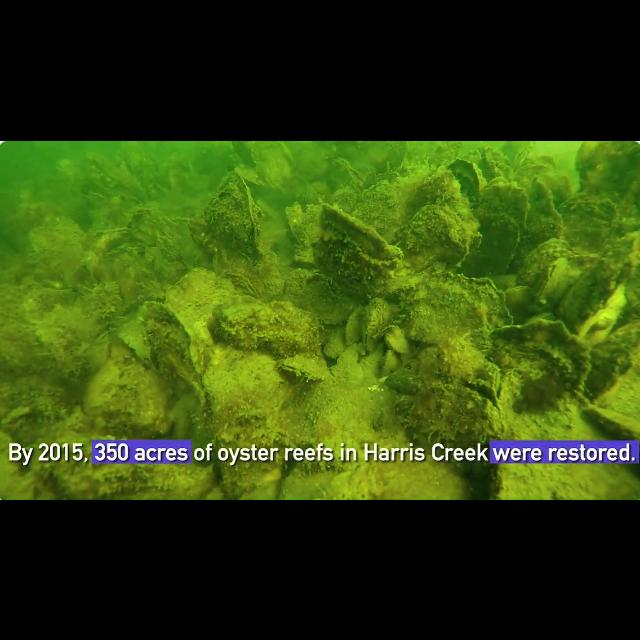Oyster-Closed: (39, 430, 217, 500), (404, 380, 506, 484), (393, 268, 513, 346), (484, 317, 594, 393), (136, 303, 204, 397), (390, 197, 474, 267), (201, 171, 261, 265), (210, 352, 286, 424), (164, 261, 234, 327), (209, 297, 279, 348), (574, 286, 630, 344), (77, 362, 129, 418), (28, 220, 88, 266), (105, 243, 158, 295), (388, 178, 469, 212), (483, 175, 531, 232), (514, 232, 572, 278), (598, 223, 640, 284), (576, 400, 640, 440), (480, 213, 518, 270), (129, 200, 173, 246), (497, 278, 541, 316), (448, 154, 486, 196), (152, 233, 188, 271), (86, 334, 114, 372), (346, 304, 368, 344), (322, 328, 348, 360), (64, 347, 84, 383), (383, 327, 413, 347)
Oyster-Open: (312, 206, 404, 296), (568, 140, 640, 204), (532, 259, 578, 311), (357, 291, 395, 353), (280, 350, 334, 390), (83, 219, 137, 251), (260, 432, 306, 463), (222, 269, 264, 301), (2, 403, 36, 431)
